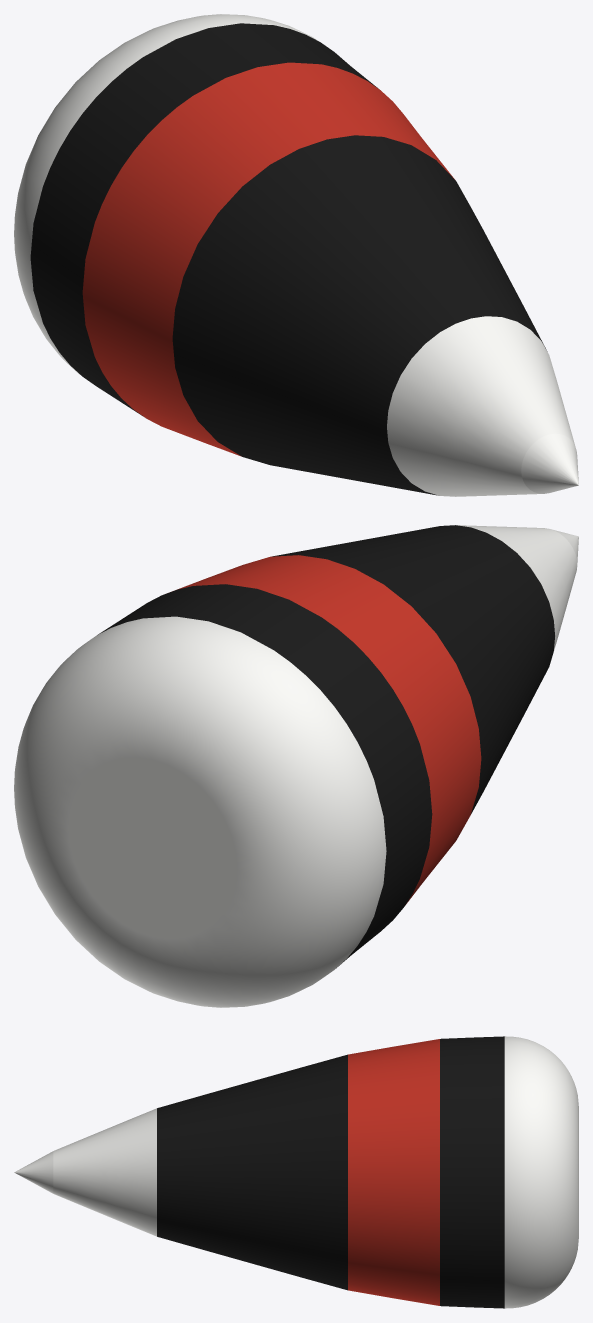
File: bullet.fbx
3 renders of one model, top to bottom at view 1: azimuth 30°, elevation 25°; view 2: azimuth 150°, elevation 25°; view 3: azimuth 270°, elevation 25°, orthographic. The views are drawn at different scales.
Visible parts, largest first — view 1: Body1; view 2: Body1; view 3: Body1.
Part boxes in pixels (bbox=[...]): Body1: bbox=[14, 14, 578, 496]; Body1: bbox=[14, 525, 578, 1007]; Body1: bbox=[14, 1036, 578, 1308].
Size of the model in its own units: 7.62 by 7.62 by 15.8.
